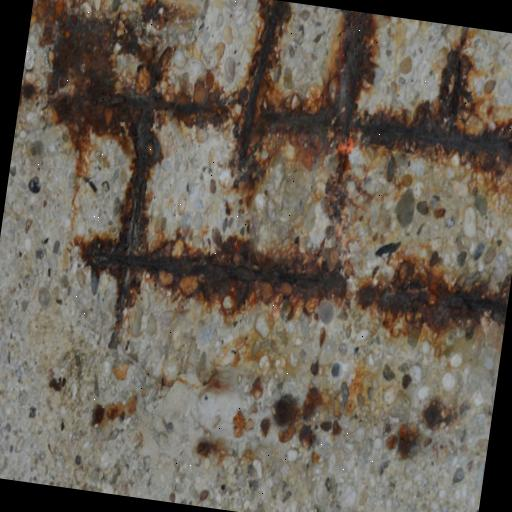spalling: (8, 0, 512, 442)
